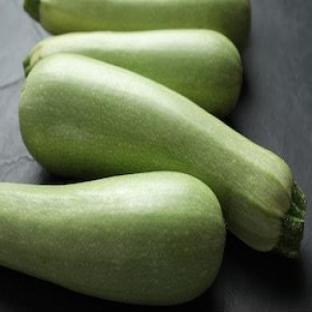Zucchini: (20, 54, 306, 256), (0, 173, 225, 304), (24, 30, 242, 116)
